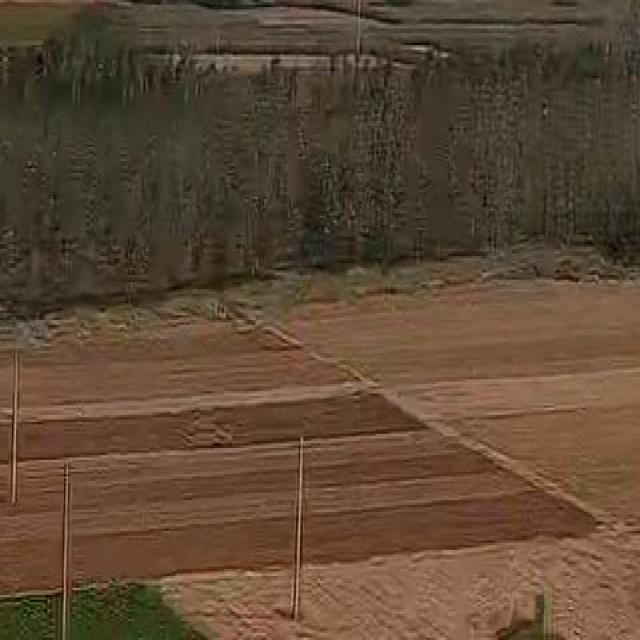other: (178, 292, 592, 572)
